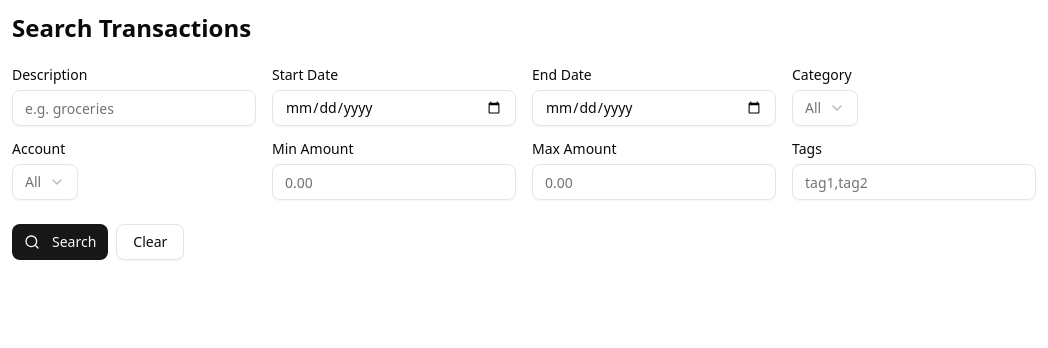
Test: SearchPage › shows no results message when empty
Expected: the field labelled "Description" is shown, [12,90,256,126]
Step 1. Click the button "Search" → (60, 242), box [12,224,108,260]
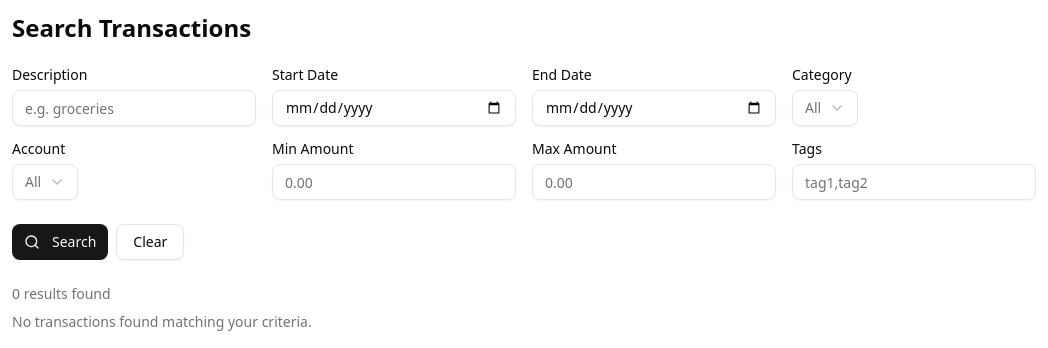
Expected: the text "No transactions found matching your criteria." is shown, [12,312,312,331]
